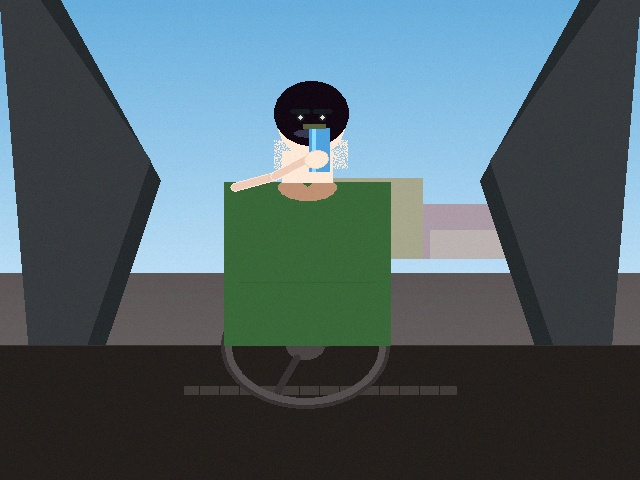drinking: (294, 114, 339, 181)
